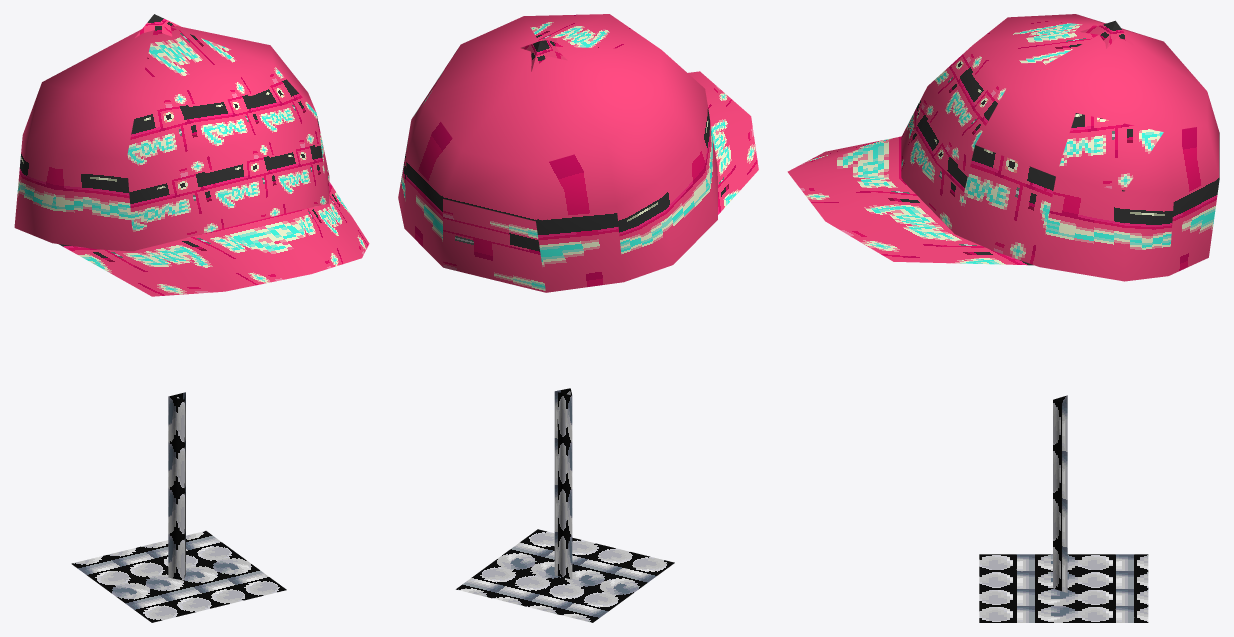
Rendered from 2934head084_c.gltf.
The picture shows the model from 3 angles, left to right: view 1: azimuth 30°, elevation 25°; view 2: azimuth 150°, elevation 25°; view 3: azimuth 270°, elevation 25°; orthographic projection. The views are drawn at different scales.
Visible parts, largest first — view 1: 2934head084_c; view 2: 2934head084_c; view 3: 2934head084_c.
Part boxes in pixels (x1,y1,x2,y2): 2934head084_c: (14, 14, 369, 622); 2934head084_c: (398, 14, 758, 622); 2934head084_c: (787, 14, 1219, 622).
Bounding box in the file's own units: 0.948 × 1.79 × 1.23.
2 materials, 2 textured.
